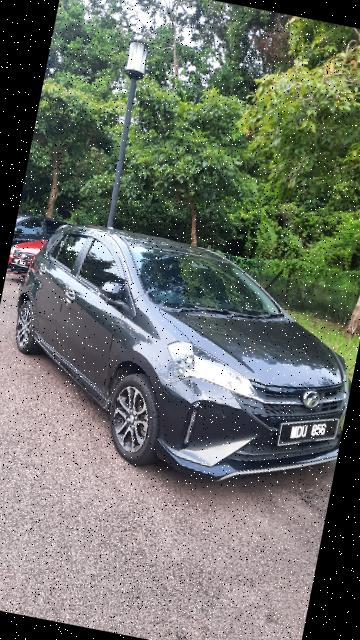License_Plate: (273, 405, 345, 461)
car: (1, 211, 360, 514)
